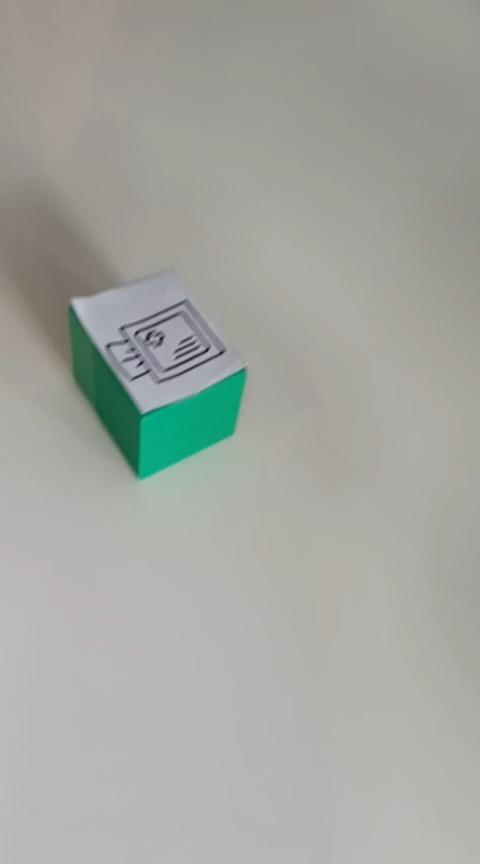Gauze: (66, 265, 248, 480)
